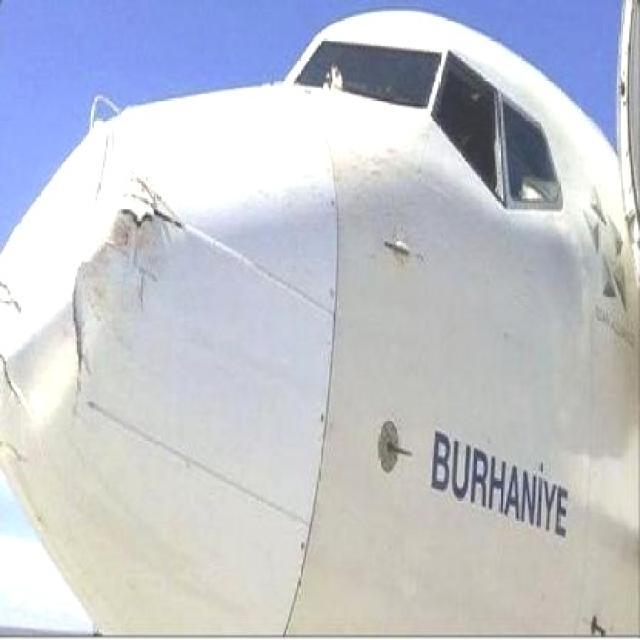dent: (3, 100, 202, 363)
